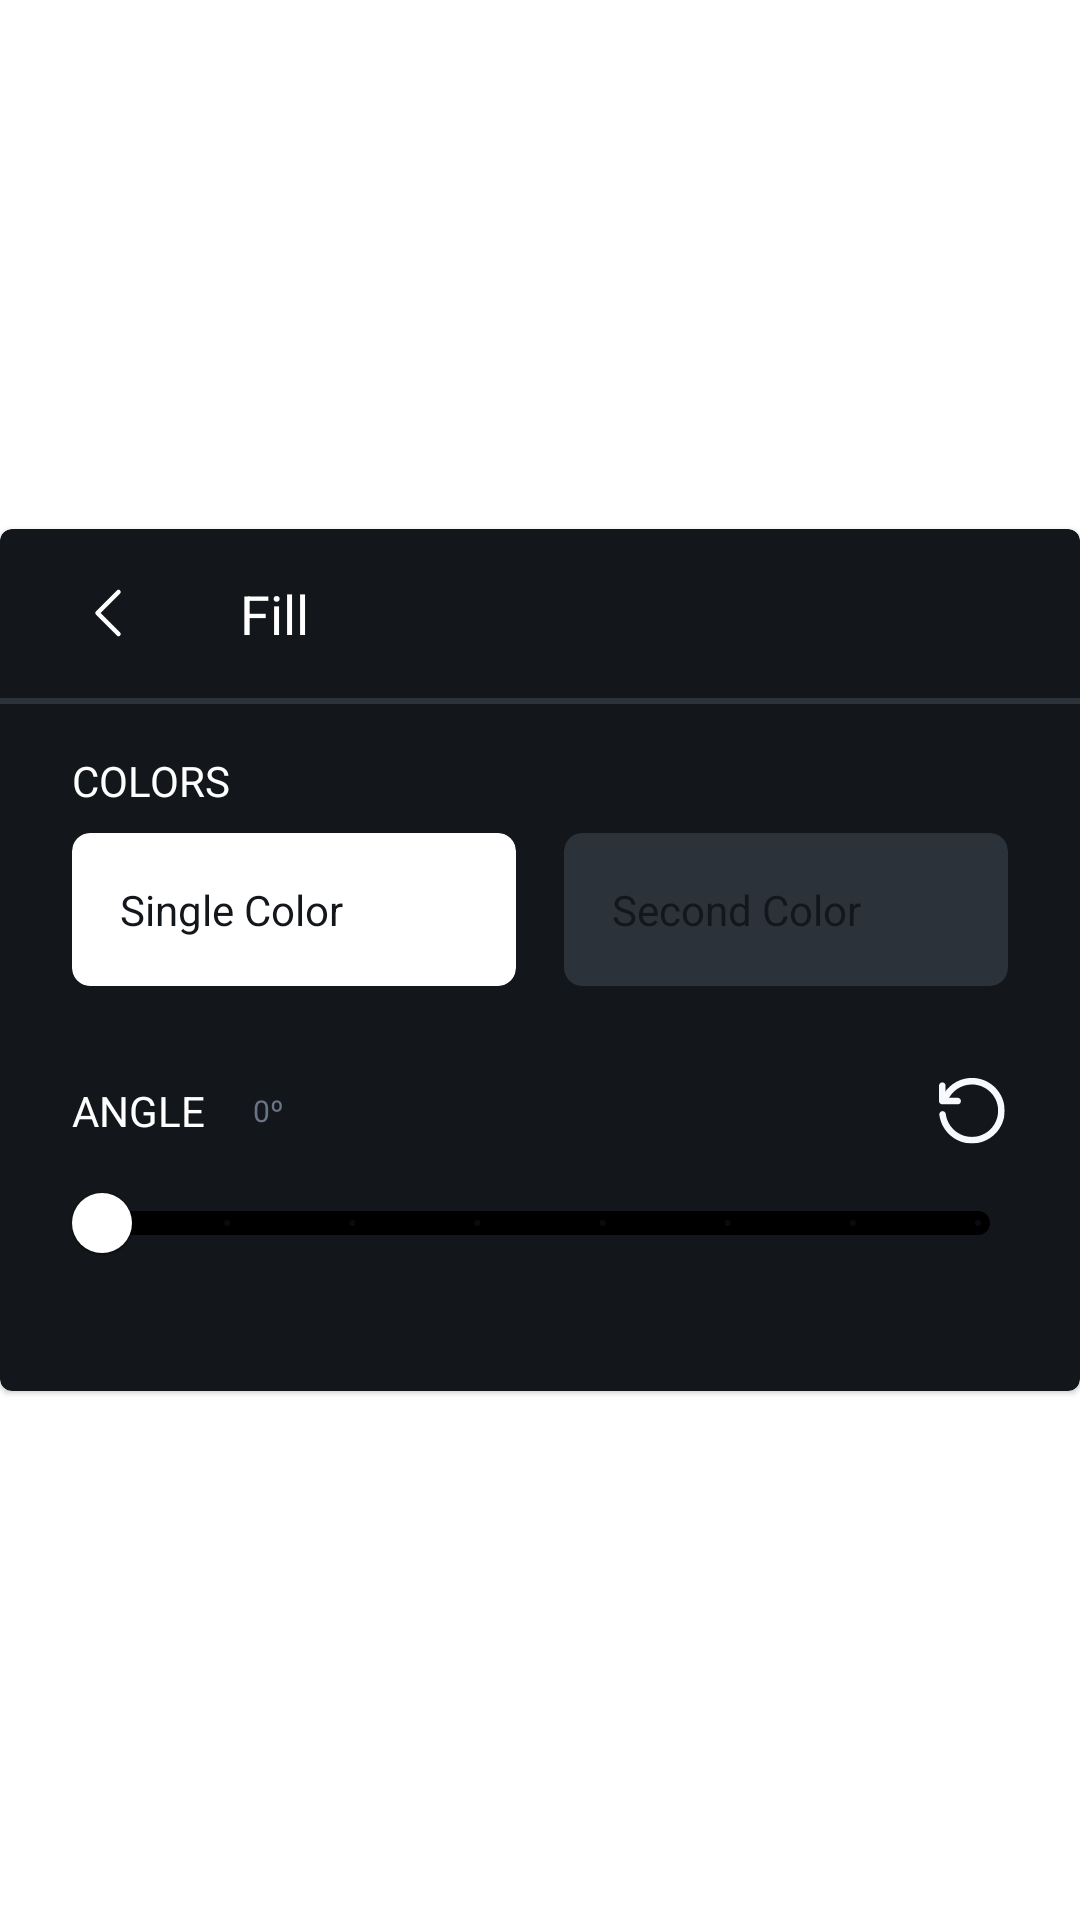

Where to tap for icons on this 1080 × 1920 app screen, as [x,y]:
arrow left: [108,613]
reset: [972,1111]
